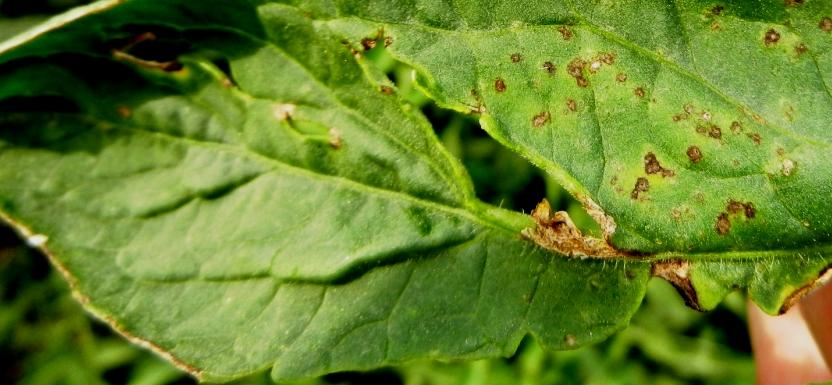Tomato leaf bacterial spot: (0, 0, 832, 365)
